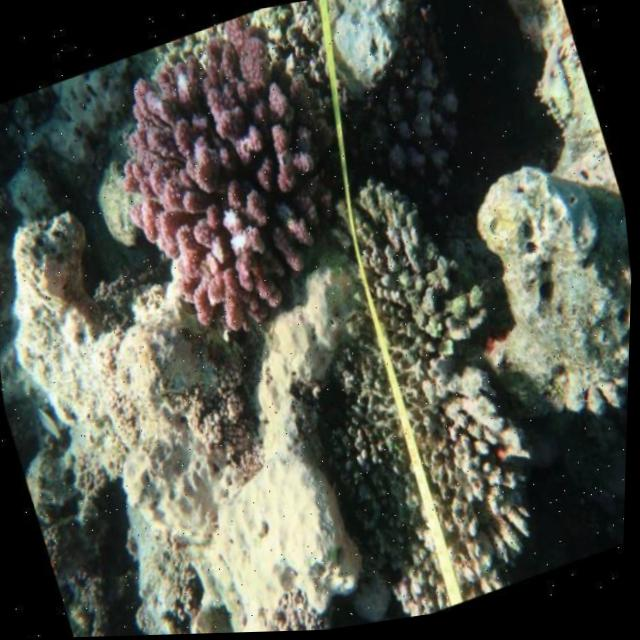Healthy Coral: (74, 0, 396, 376)
